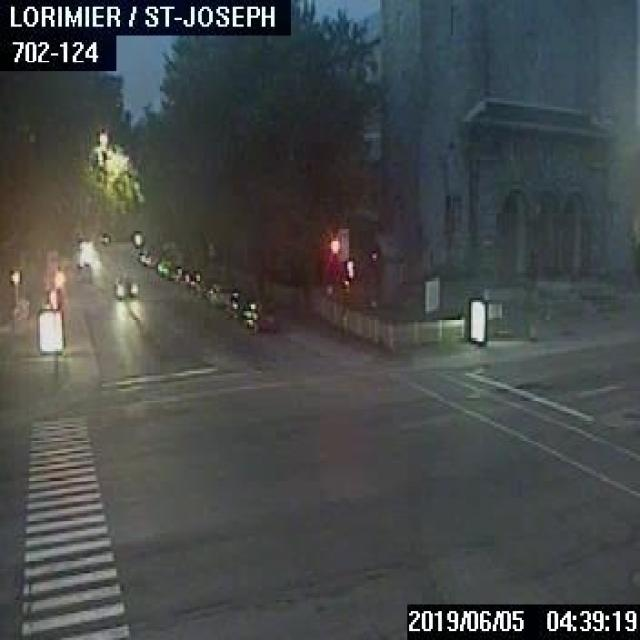vehicle: (241, 301, 279, 332), (206, 282, 235, 307), (226, 291, 253, 317), (114, 274, 136, 298), (156, 255, 170, 276), (143, 253, 155, 265)
